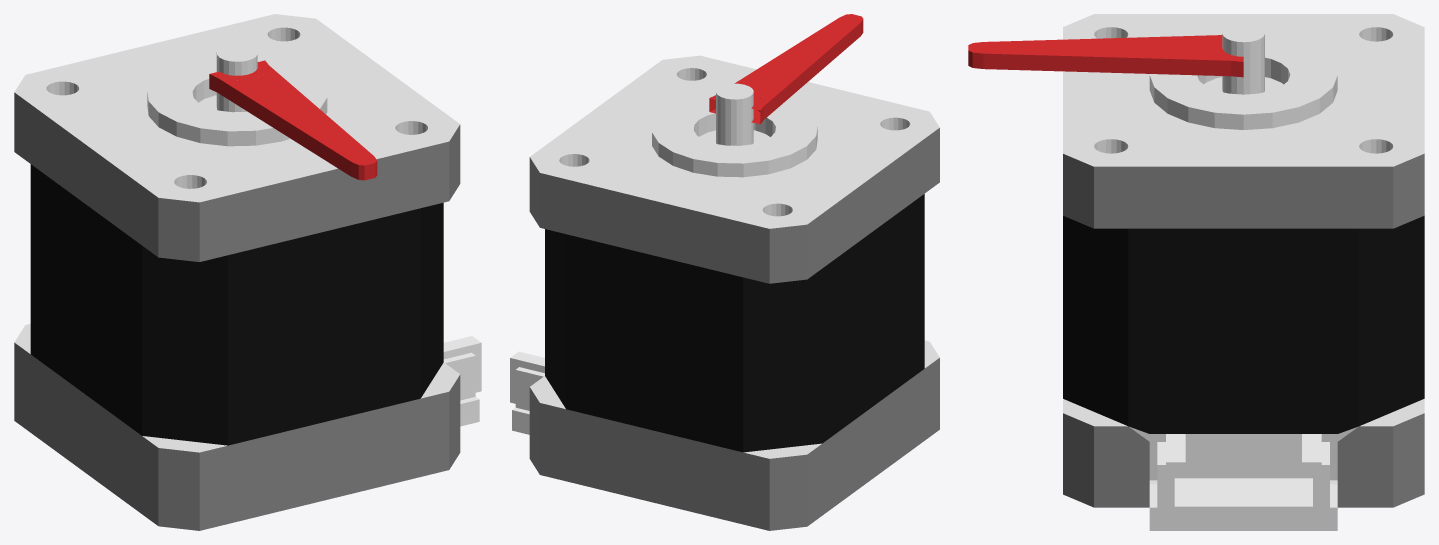
File: Stepper.glb
The picture shows the model from 3 angles, left to right: view 1: azimuth 30°, elevation 25°; view 2: azimuth 150°, elevation 25°; view 3: azimuth 270°, elevation 25°; orthographic projection. The views are drawn at different scales.
Visible parts, largest first — view 1: Cube, Cylinder; view 2: Cube, Cylinder; view 3: Cube, Cylinder.
Part boxes in pixels (<box>): Cube: <box>14,14,481,530</box>; Cylinder: <box>209,60,377,180</box>; Cube: <box>510,55,939,530</box>; Cylinder: <box>709,14,863,124</box>; Cube: <box>1063,14,1424,530</box>; Cylinder: <box>968,35,1243,77</box>.
Bounding box in the file's own units: 5.02 × 5.14 × 5.34.
